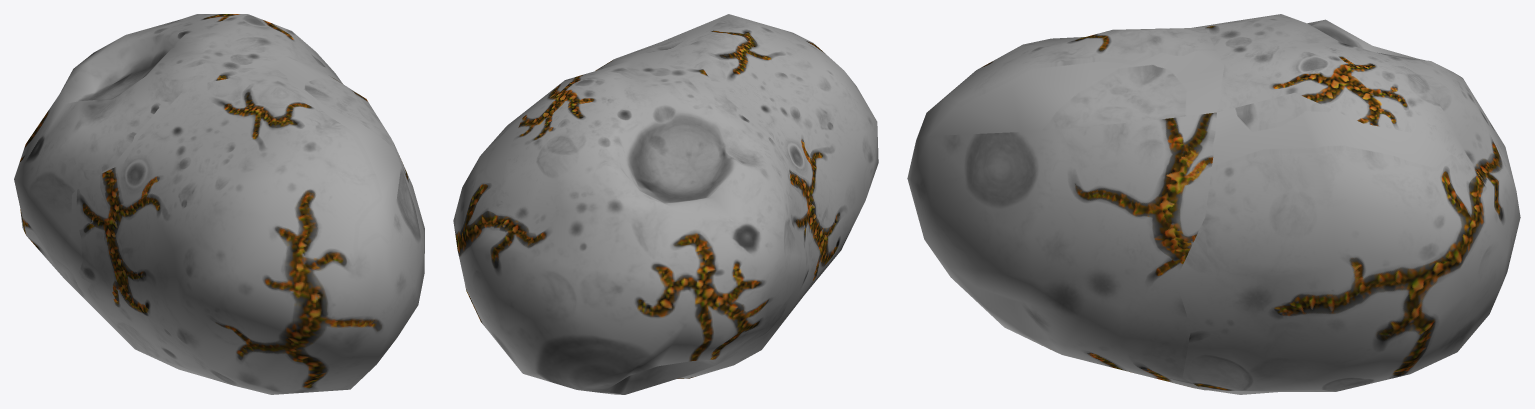
The model's file is Asteroid_500.dae.
3 renders of one model, left to right at view 1: azimuth 30°, elevation 25°; view 2: azimuth 150°, elevation 25°; view 3: azimuth 270°, elevation 25°, orthographic. The views are drawn at different scales.
Parts seen in each view (by area): view 1: Asteroid; view 2: Asteroid; view 3: Asteroid.
Part boxes in pixels (left/top/right/bottom): Asteroid: left=14, top=14, right=424, bottom=394; Asteroid: left=453, top=14, right=878, bottom=394; Asteroid: left=907, top=14, right=1520, bottom=394.
Bounding box in the file's own units: 1.3 × 1.22 × 1.95.
